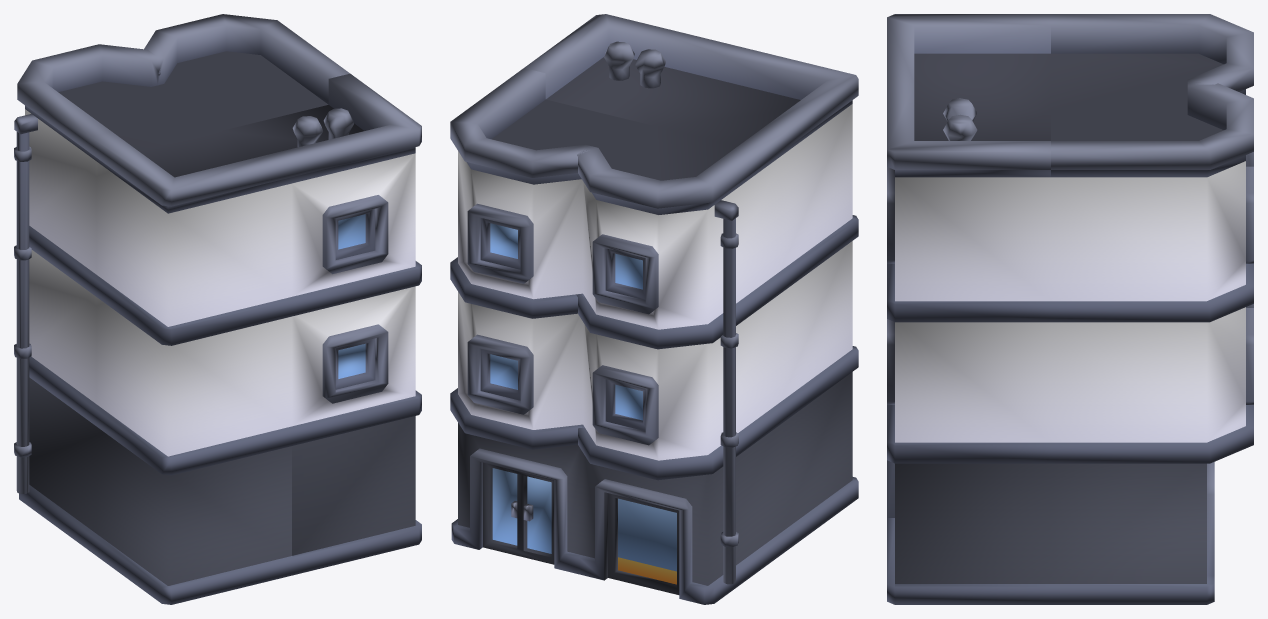
File: building-a_lev1.glb
3 views of the same model, side by side, from view 1: azimuth 30°, elevation 25°; view 2: azimuth 150°, elevation 25°; view 3: azimuth 270°, elevation 25° (orthographic). The views are drawn at different scales.
Visible parts, largest first — view 1: building-a_lev1; view 2: building-a_lev1; view 3: building-a_lev1.
Part boxes in pixels (left/top/right/bottom): building-a_lev1: left=14, top=14, right=421, bottom=604; building-a_lev1: left=450, top=14, right=858, bottom=604; building-a_lev1: left=887, top=14, right=1253, bottom=604.
Size of the model in its own units: 0.8836 by 1.29 by 0.94.
Materials: 1 (1 with a texture image).
